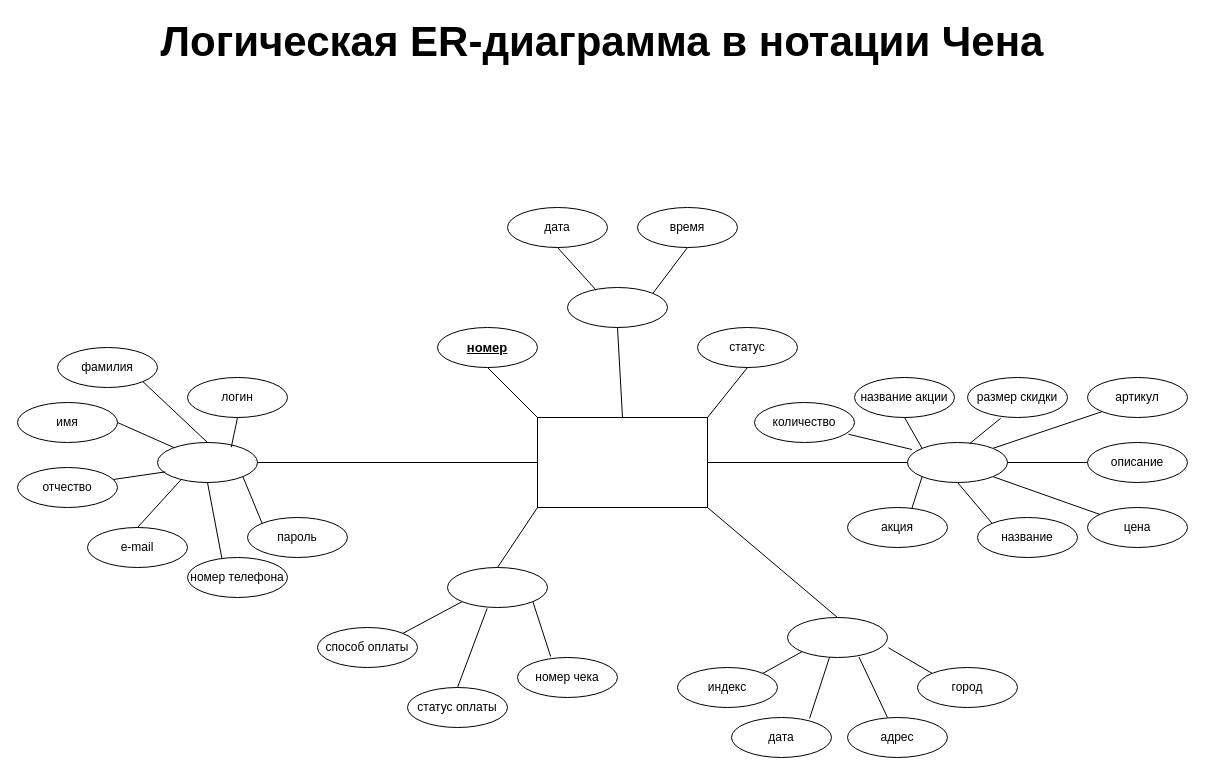
This 1205x775 diagram has some shape labels left out. Here are the shapes that lost their labels. From the top down, the centre of each, then its label:
At point 617,307: "дата создания".
At point 207,462: "пользователь".
At point 622,462: "Заказ".
At point 957,462: "товар".
At point 497,587: "оплата".
At point 837,637: "доставка".
